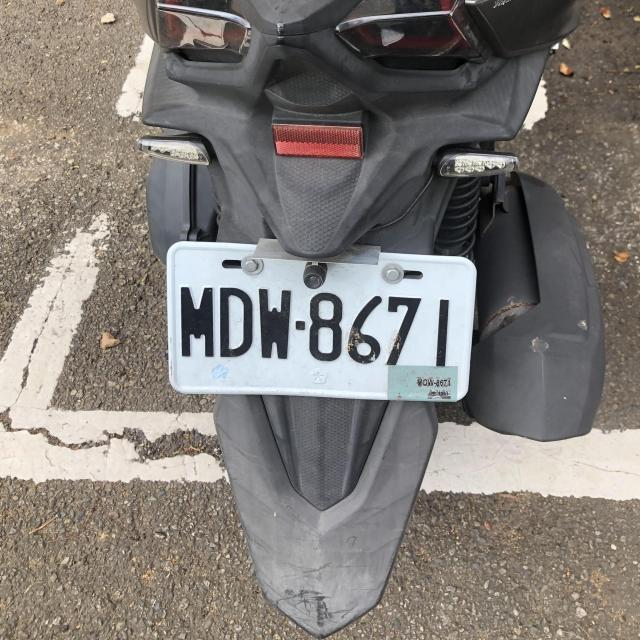W: (160, 244, 474, 401)
